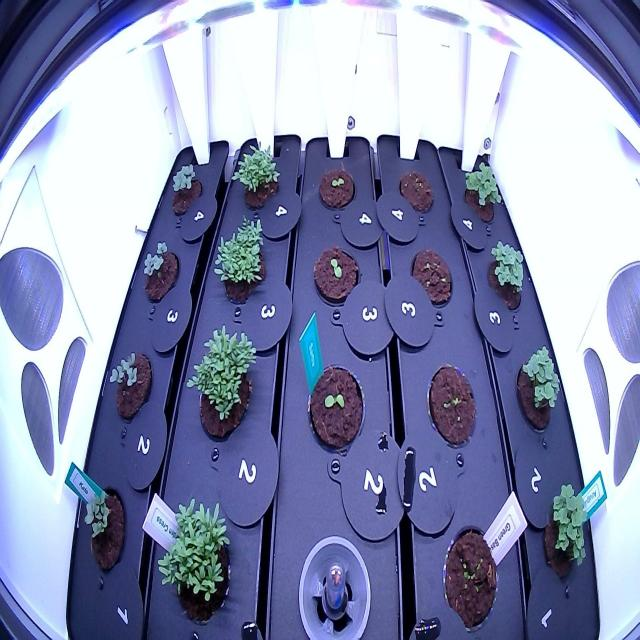germination: (303, 354, 369, 456), (537, 476, 592, 592), (509, 339, 565, 443), (78, 476, 128, 584), (458, 150, 510, 234), (108, 341, 156, 428), (483, 231, 531, 318), (310, 238, 363, 310), (139, 234, 183, 306), (315, 159, 357, 217), (168, 160, 208, 218)
pod: (438, 516, 502, 634), (422, 356, 480, 454), (407, 242, 454, 316), (396, 168, 436, 217)
